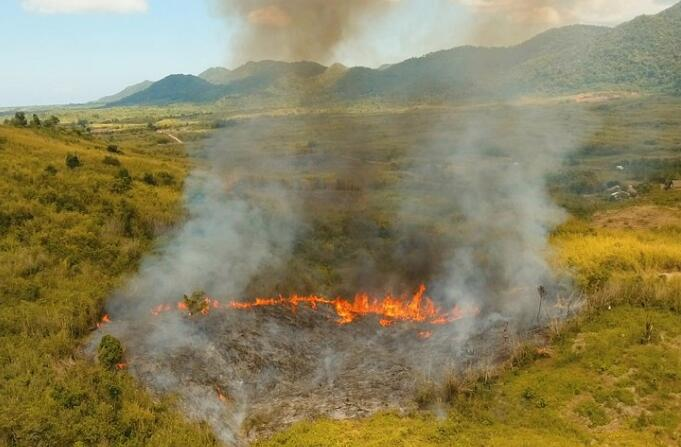fire: (97, 277, 486, 329)
yanwu: (102, 1, 597, 412)
